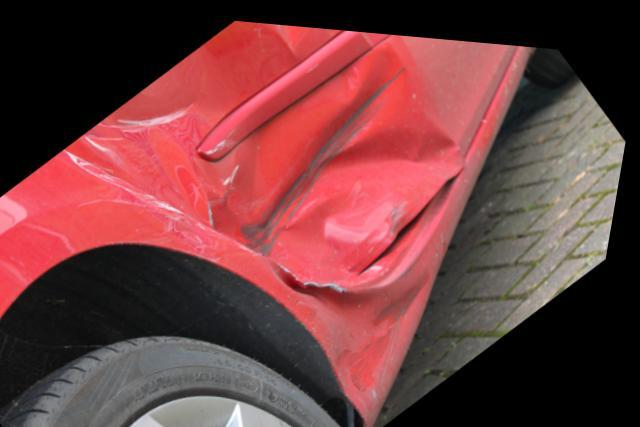dent: (70, 16, 470, 283), (290, 272, 441, 388)
